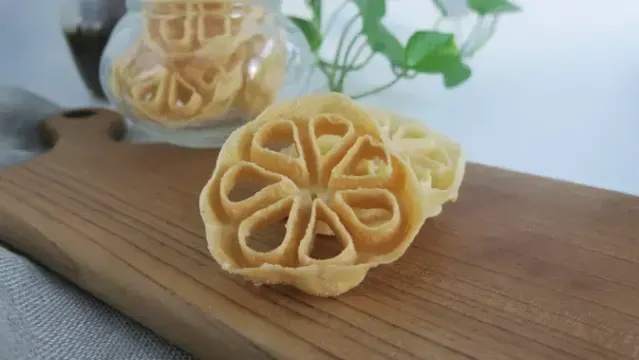kembang_goyang: (180, 91, 418, 293)
